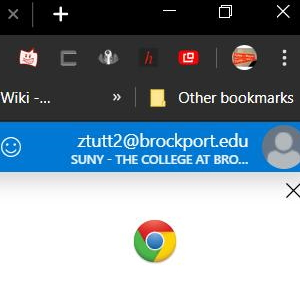chrome: (133, 219, 177, 263)
